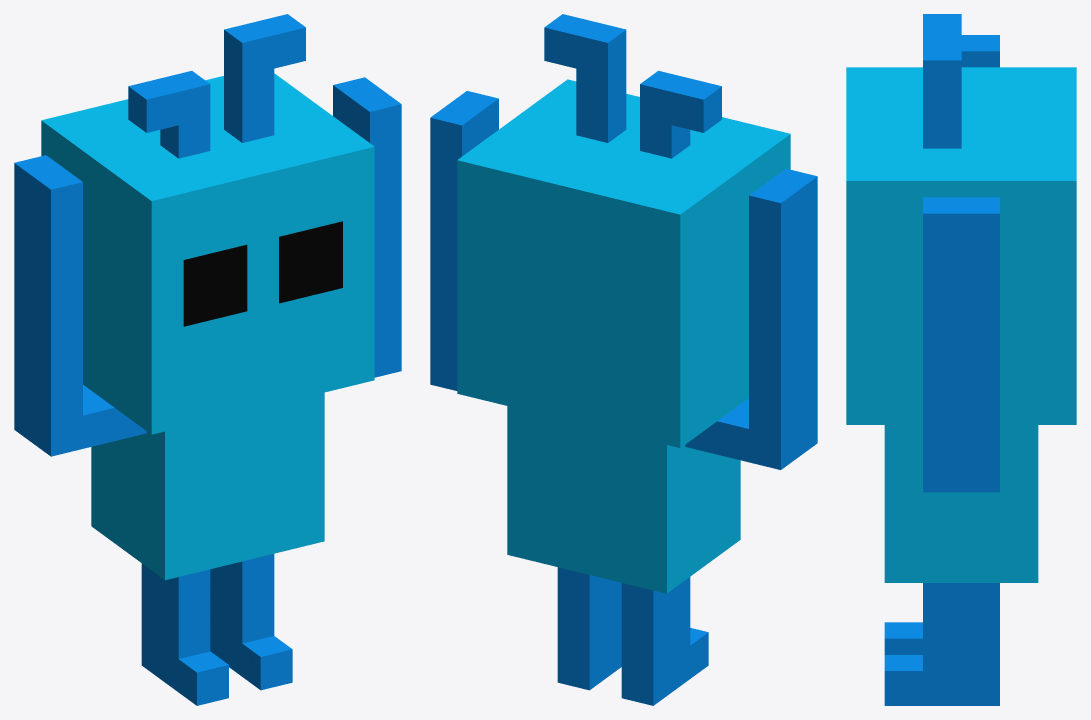
File: alien_walk_hold-02.obj
3 views of the same model, side by side, from view 1: azimuth 30°, elevation 25°; view 2: azimuth 150°, elevation 25°; view 3: azimuth 270°, elevation 25° (orthographic). The views are drawn at different scales.
Size of the model in its own units: 11 by 19 by 6.
1 material, 1 textured.
